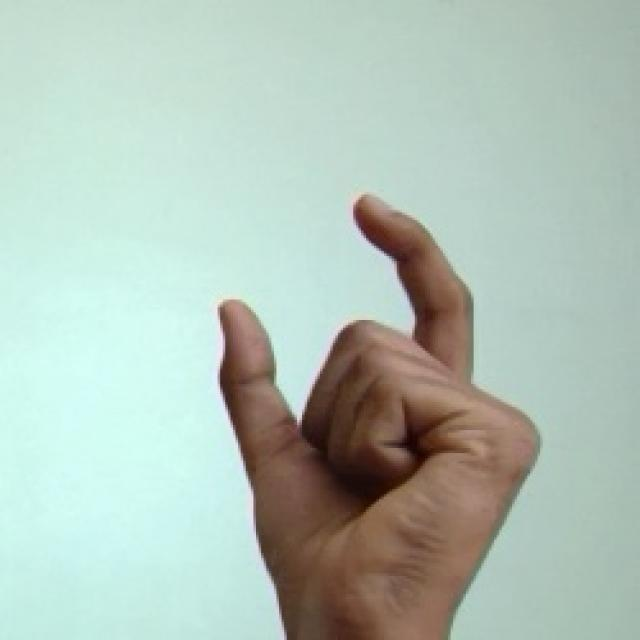Alphabet-U: (146, 145, 550, 640)
